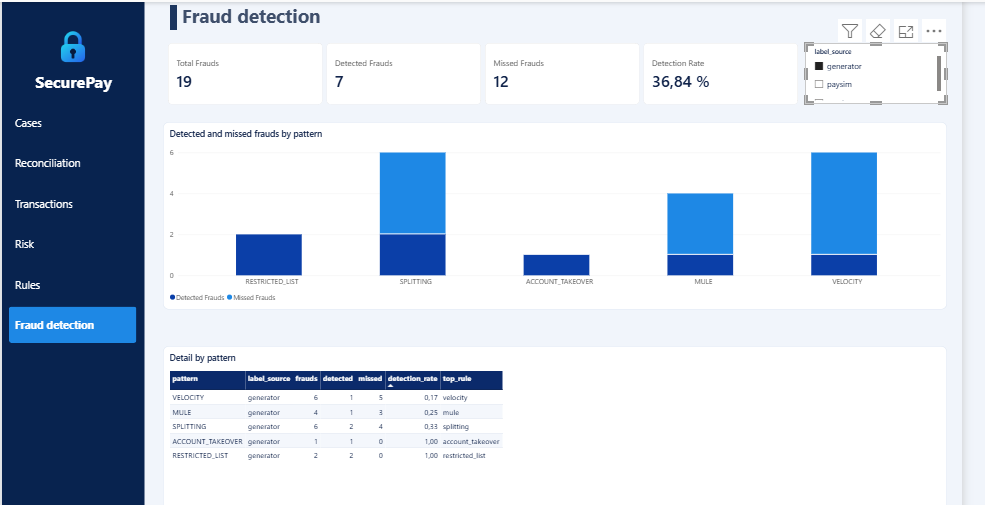

What the dashboard file says about the page in this screenshot:
{"tool":"powerbi","page":{"name":"Fraud detection","canvas":[1920,1080],"ordinal":5},"visuals":[{"type":"cardVisual","fields":{"Data":["q3_fraud_detection.Total Frauds","q3_fraud_detection.Detected Frauds","q3_fraud_detection.Missed Frauds","q3_fraud_detection.Detection Rate"]},"box":[365,104,1290,110],"z":0},{"type":"columnChart","fields":{"Category":["q3_fraud_detection.pattern"],"Y":["q3_fraud_detection.Detected Frauds","q3_fraud_detection.Missed Frauds"]},"box":[322,282,1568,345],"z":1000},{"type":"tableEx","fields":{"Values":["q3_fraud_detection.pattern","q3_fraud_detection.label_source","q3_fraud_detection.frauds","q3_fraud_detection.detected","q3_fraud_detection.missed","q3_fraud_detection.detection_rate","q3_fraud_detection.top_rule"]},"box":[322,700,1039,350],"z":2000},{"type":"slicer","fields":{"Values":["q3_fraud_detection.label_source"]},"box":[1610,132,283,84],"z":4000},{"type":"pageNavigator","box":[15,190,255,480],"z":4001}]}

Visuals, with their boxes on the page's 1920x1080 design canvas (x1, y1, x2, y2). These are canvas units, not pixel positions in the 985x505 screenshot, which may show the page scaled, cropped or inside an application window:
cardVisual - q3_fraud_detection.Total Frauds x q3_fraud_detection.Detected Frauds: 365/104/1655/214
columnChart - q3_fraud_detection.pattern x q3_fraud_detection.Detected Frauds: 322/282/1890/627
tableEx - q3_fraud_detection.pattern x q3_fraud_detection.label_source: 322/700/1361/1050
slicer - q3_fraud_detection.label_source: 1610/132/1893/216
pageNavigator: 15/190/270/670
